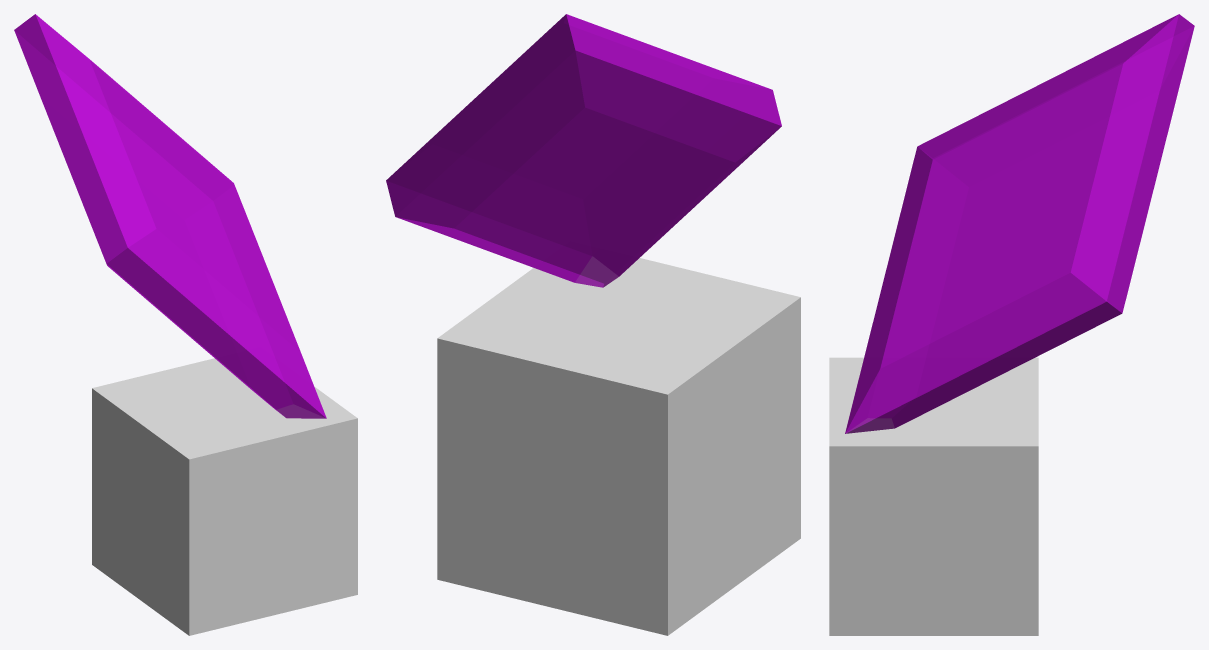
The model's file is fragment-statue.fbx.
3 views of the same model, side by side, from view 1: azimuth 30°, elevation 25°; view 2: azimuth 150°, elevation 25°; view 3: azimuth 270°, elevation 25° (orthographic). The views are drawn at different scales.
Visible parts, largest first — view 1: Cube, topaz tim trong suot; view 2: Cube, topaz tim trong suot; view 3: topaz tim trong suot, Cube.
Part boxes in pixels (x1,y1,x2,y2): Cube: [92, 358, 357, 635]; topaz tim trong suot: [14, 14, 326, 418]; Cube: [437, 258, 800, 635]; topaz tim trong suot: [386, 14, 781, 287]; topaz tim trong suot: [845, 14, 1194, 433]; Cube: [829, 357, 1038, 635].
Bounding box in the file's own units: 248 × 567 × 349.
